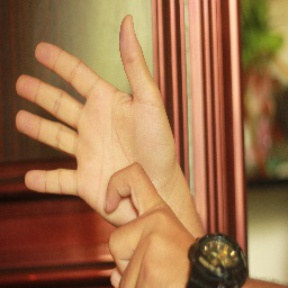R: (13, 15, 197, 287)
